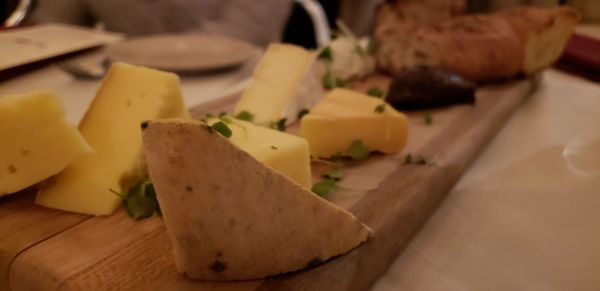soup: (138, 114, 372, 281), (36, 61, 191, 218)
